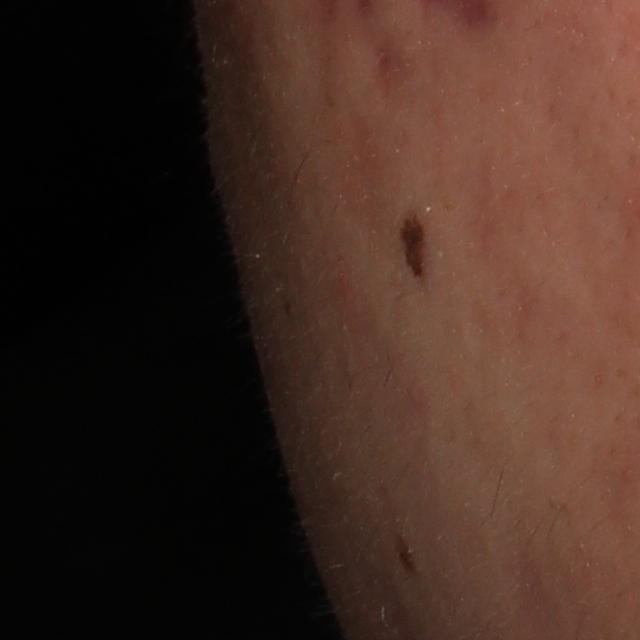nevus: (399, 194, 436, 294), (390, 532, 423, 573)
